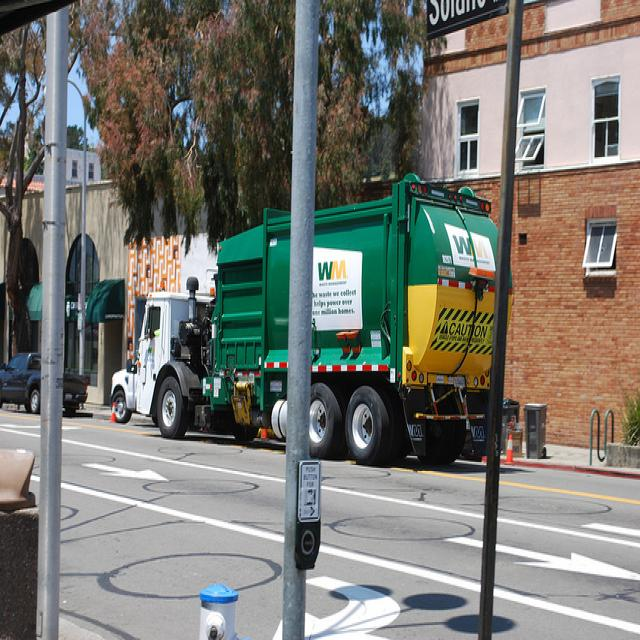Vehicle: (108, 170, 498, 424), (0, 351, 88, 417)
